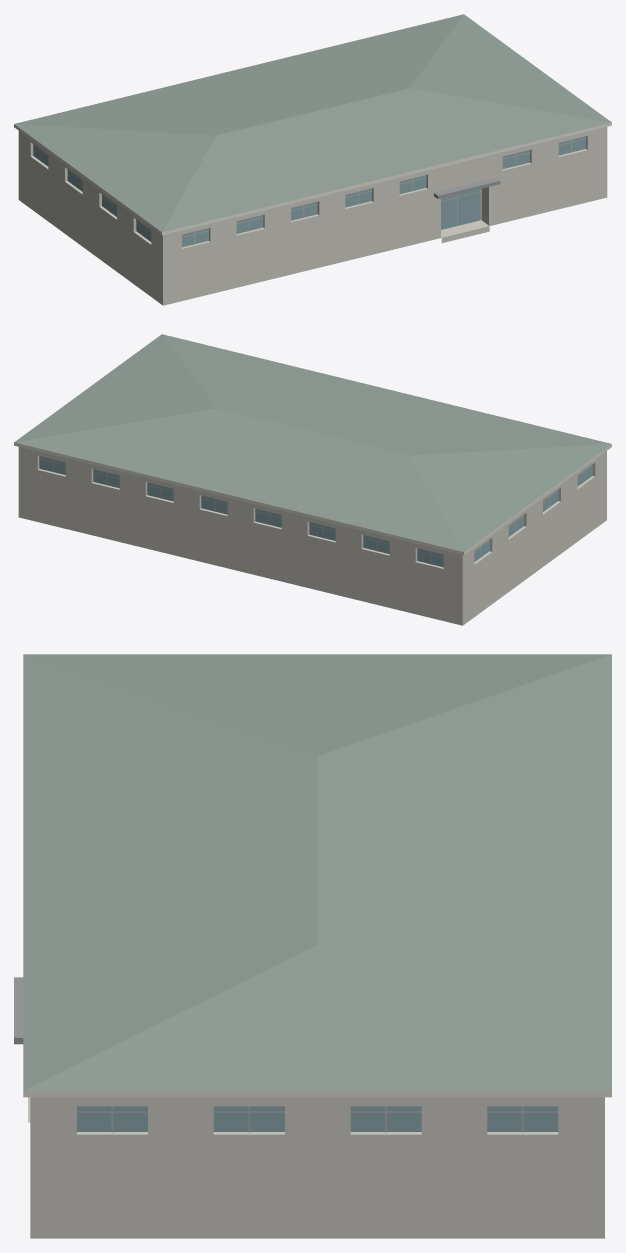
The picture shows the model from 3 angles, top to bottom: view 1: azimuth 30°, elevation 25°; view 2: azimuth 150°, elevation 25°; view 3: azimuth 270°, elevation 25°; orthographic projection. The views are drawn at different scales.
Parts seen in each view (by area): view 1: capstone__roof, capstone__wall, capstone__glass, capstone__trim, capstone__frame, capstone__entranceThreshold_0, capstone__canopy; view 2: capstone__roof, capstone__wall, capstone__glass, capstone__trim, capstone__frame; view 3: capstone__roof, capstone__wall, capstone__glass, capstone__trim, capstone__frame.
Part boxes in pixels (x1,y1,x2,y2): capstone__roof: (14,14,611,305); capstone__wall: (18,127,607,305); capstone__glass: (33,136,586,247); capstone__trim: (14,122,611,235); capstone__frame: (33,138,586,244); capstone__entranceThreshold_0: (441,220,489,242); capstone__canopy: (434,178,500,198); capstone__roof: (14,334,611,625); capstone__wall: (18,447,606,625); capstone__glass: (39,456,592,567); capstone__trim: (14,442,611,555); capstone__frame: (39,458,592,564); capstone__roof: (23,654,611,1238); capstone__wall: (30,1097,604,1237); capstone__glass: (77,1106,558,1131); capstone__trim: (23,1091,611,1097); capstone__frame: (77,1106,558,1132).
Size of the model in its own units: 37.5 by 7.3 by 21.7.
